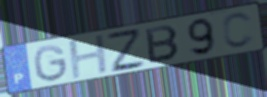9: (184, 16, 218, 58)
B: (143, 24, 182, 65)
C: (220, 11, 257, 51)
G: (32, 43, 70, 83)
H: (66, 32, 111, 81)
Z: (104, 28, 148, 74)
